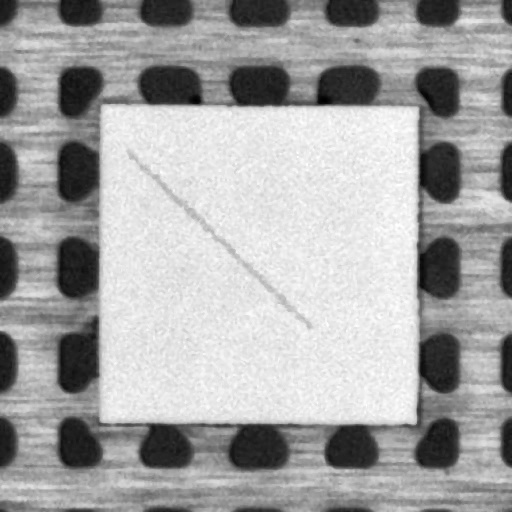DIE_CRACK: (126, 150, 308, 326)
